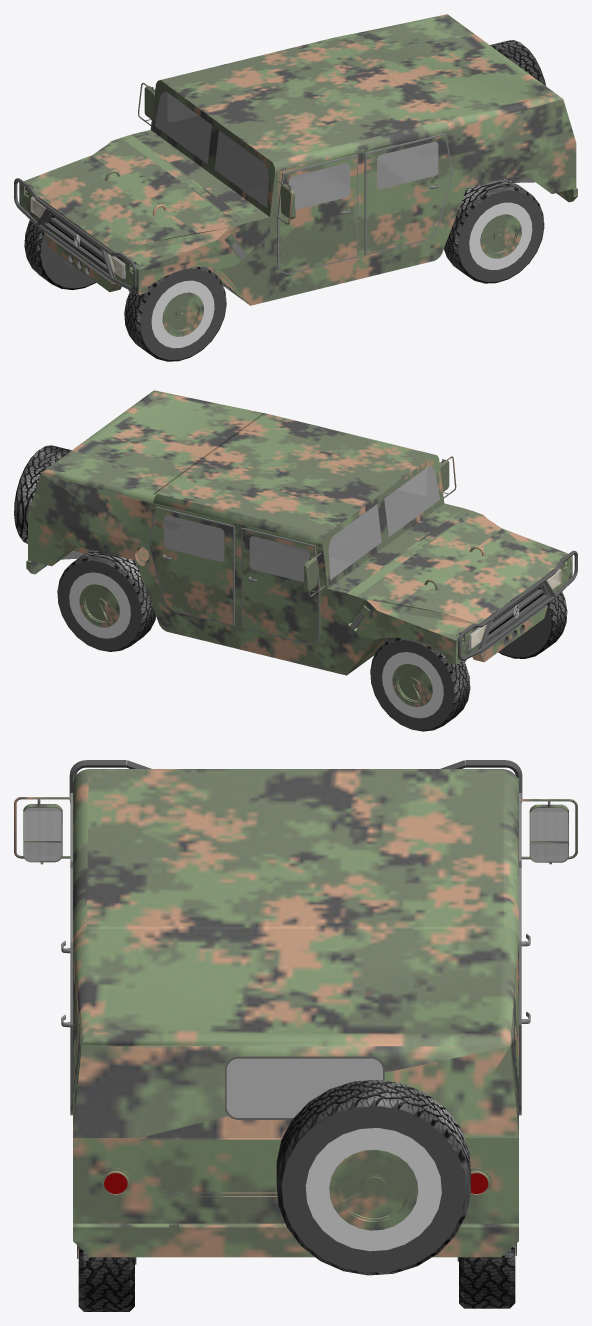
File: armored_jeep.glb
3 renders of one model, top to bottom at view 1: azimuth 30°, elevation 25°; view 2: azimuth 150°, elevation 25°; view 3: azimuth 270°, elevation 25°, orthographic. The views are drawn at different scales.
Parts seen in each view (by area): view 1: Material3 (×5), Material2 (×3); view 2: Material3 (×5), Material2 (×3); view 3: Material3 (×6), Material2 (×3).
Part boxes in pixels (x1=…): Material3 (×5): x1=14, y1=14, x2=577, y2=361; Material2 (×3): x1=25, y1=91, x2=534, y2=279; Material3 (×5): x1=14, y1=390, x2=577, y2=731; Material2 (×3): x1=61, y1=466, x2=560, y2=649; Material3 (×6): x1=14, y1=760, x2=577, y2=1311; Material2 (×3): x1=23, y1=793, x2=568, y2=1117.
Size of the model in its own units: 194 by 69.77 by 107.
18 materials, 7 textured.
